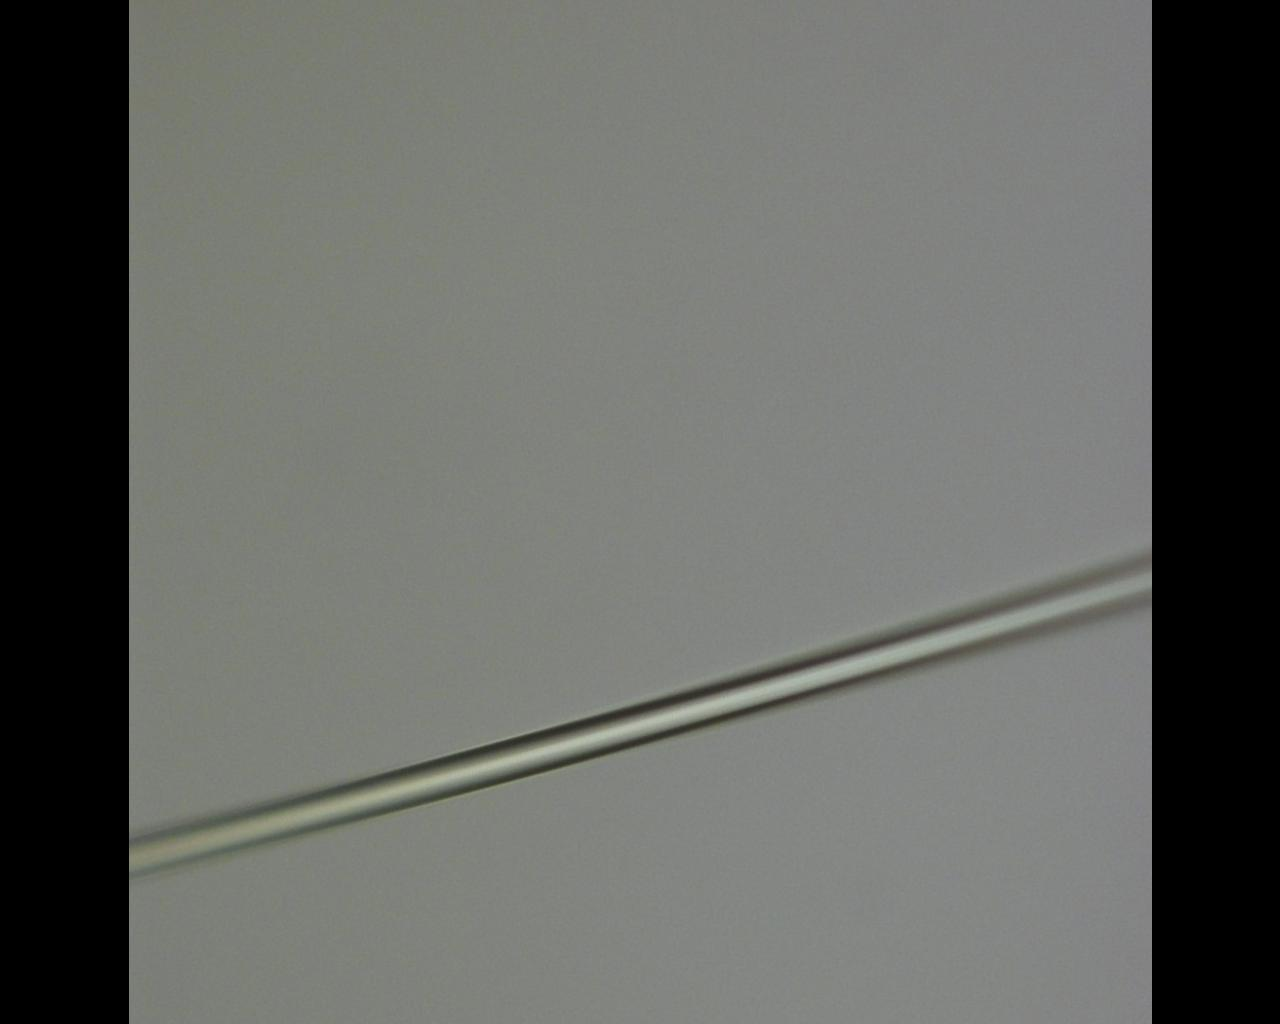fiber: (778, 241, 1280, 424), (0, 414, 712, 492)
